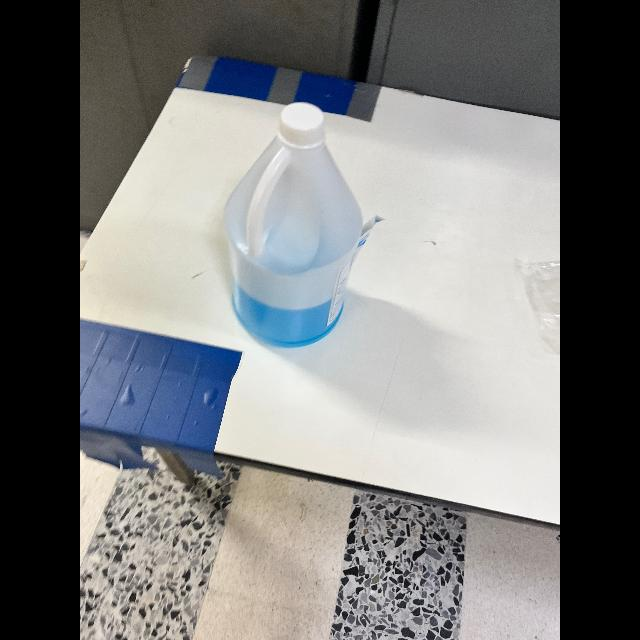chemical_plastic_gallon: (230, 94, 380, 360)
